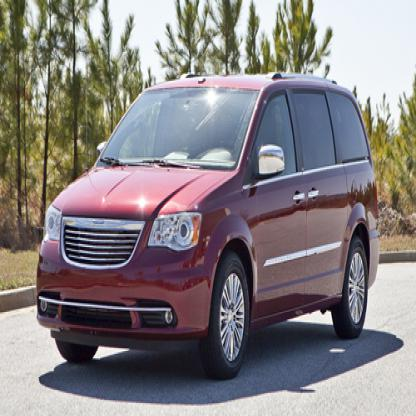Vehicle: (38, 74, 380, 377)
